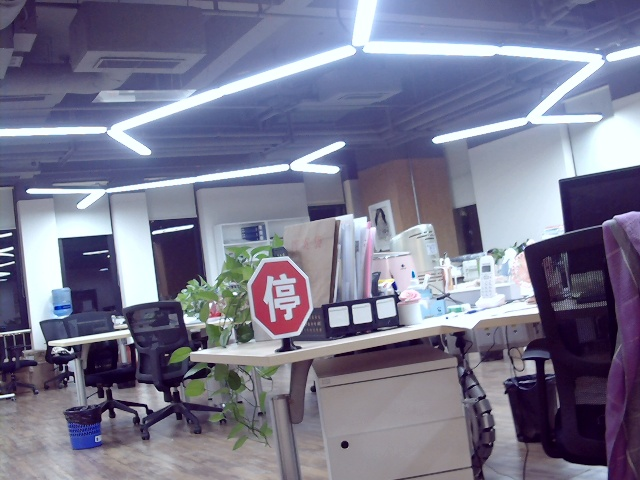stop: (261, 271, 301, 322)
